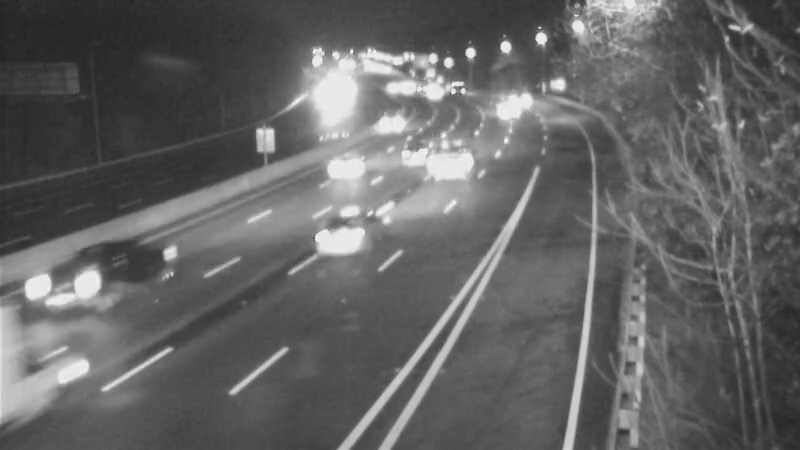vehicle: (1, 317, 98, 427), (409, 116, 489, 196), (303, 128, 383, 208), (298, 199, 378, 279), (25, 236, 105, 316), (477, 86, 527, 136), (368, 98, 418, 148), (392, 122, 442, 172)
